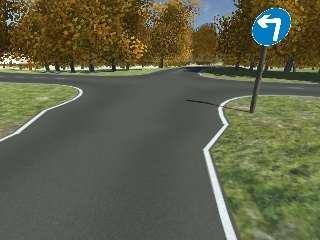TLeft: (251, 6, 292, 47)
